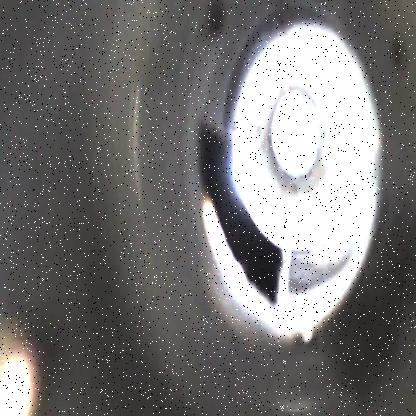Crack2: (193, 123, 287, 310)
